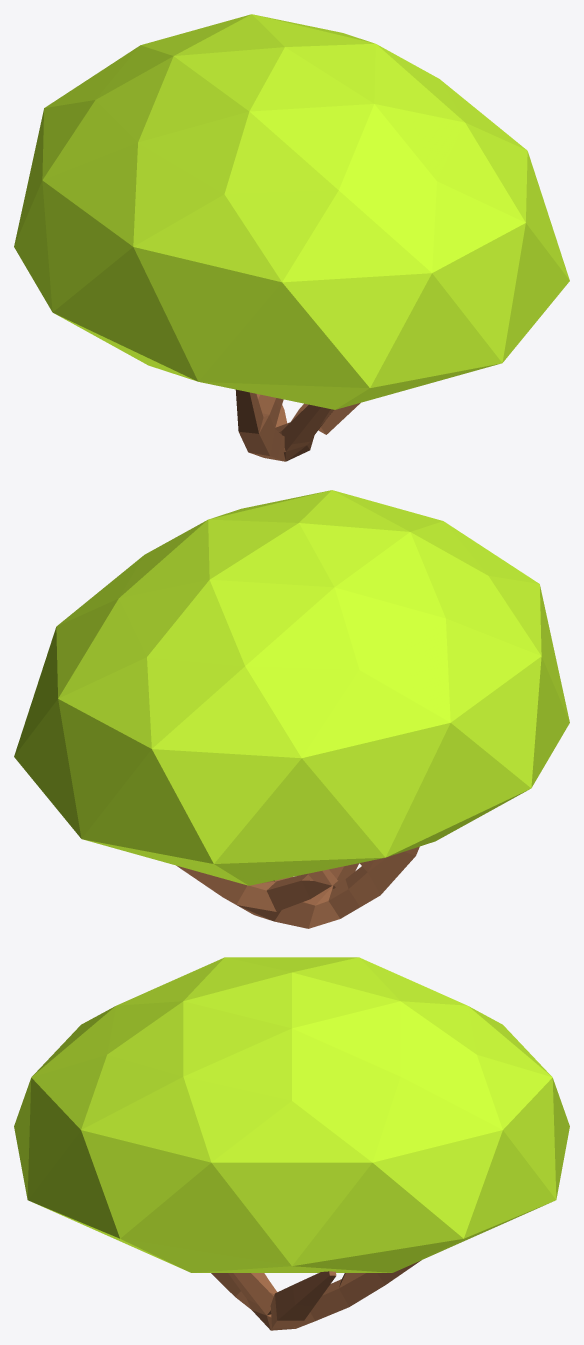
File: Arbol Banano Fase2.fbx
3 renders of one model, top to bottom at view 1: azimuth 30°, elevation 25°; view 2: azimuth 150°, elevation 25°; view 3: azimuth 270°, elevation 25°, orthographic. The views are drawn at different scales.
Parts seen in each view (by area): view 1: Icosphere.001, Vert.002; view 2: Icosphere.001, Vert.002; view 3: Icosphere.001, Vert.002.
Part boxes in pixels (x1,y1,x2,y2): Icosphere.001: (14, 14, 569, 409); Vert.002: (235, 389, 360, 461); Icosphere.001: (14, 490, 569, 885); Vert.002: (176, 846, 419, 928); Icosphere.001: (14, 957, 569, 1272); Vert.002: (211, 1260, 421, 1330).
Size of the model in its own units: 170 by 143 by 204.
